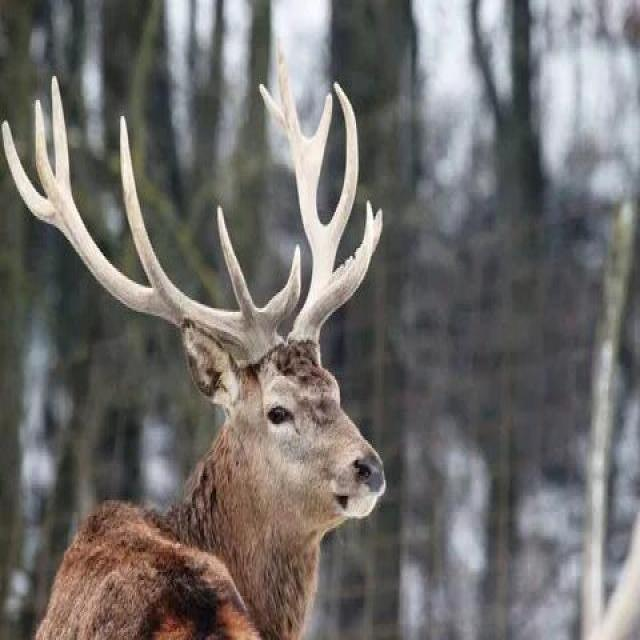deer: (18, 70, 450, 618)
